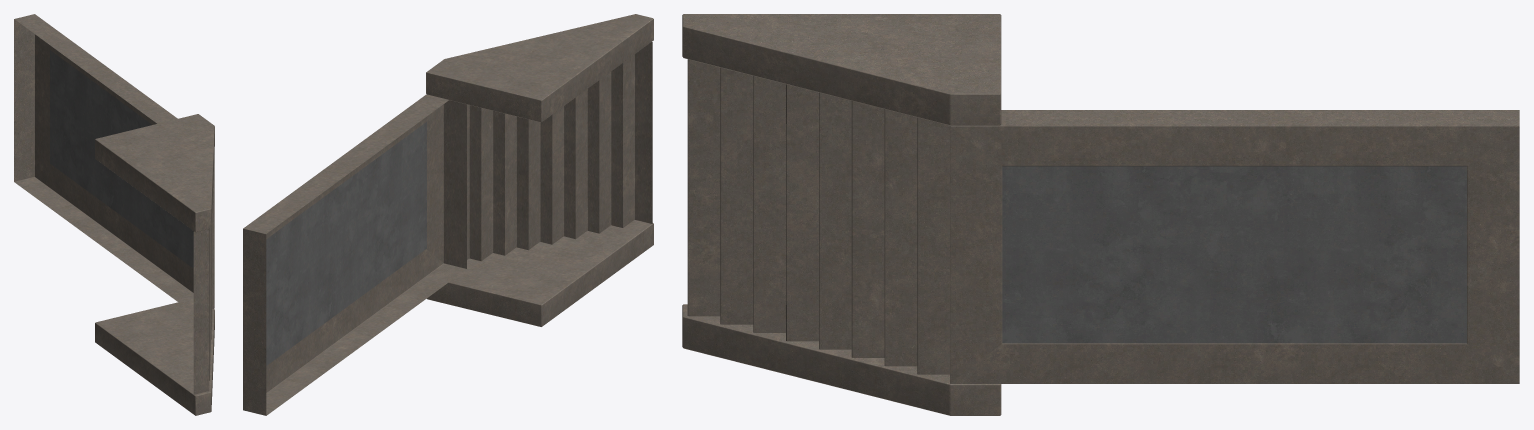
Rendered from cP_Pathway04_Stairs_Alt.dae.
3 views of the same model, side by side, from view 1: azimuth 30°, elevation 25°; view 2: azimuth 150°, elevation 25°; view 3: azimuth 270°, elevation 25° (orthographic). The views are drawn at different scales.
Visible parts, largest first — view 1: cP_Pathway04_Stairs_Alt.001; view 2: cP_Pathway04_Stairs_Alt.001; view 3: cP_Pathway04_Stairs_Alt.001.
Part boxes in pixels (bbox=[...]): cP_Pathway04_Stairs_Alt.001: bbox=[14, 14, 214, 415]; cP_Pathway04_Stairs_Alt.001: bbox=[243, 14, 653, 415]; cP_Pathway04_Stairs_Alt.001: bbox=[682, 14, 1519, 415].
Size of the model in its own units: 2.67 by 11.76 by 5.
